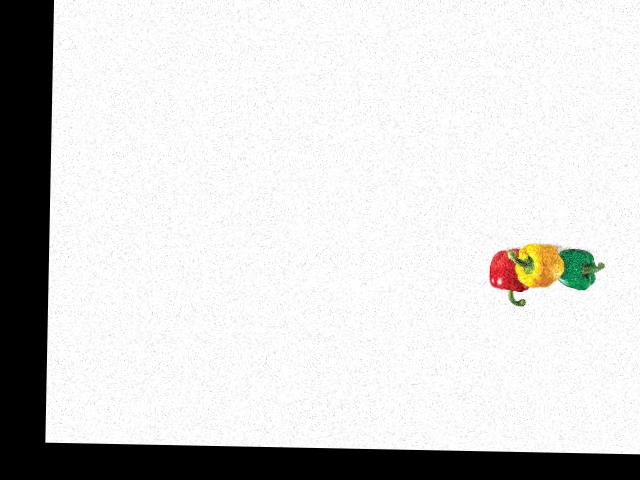bell_pepper: (552, 244, 603, 294)
